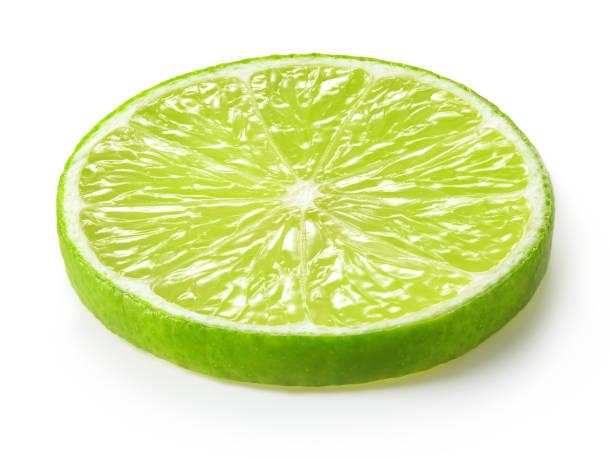lime: (59, 50, 560, 380)
